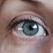eye: (22, 21, 38, 35)
